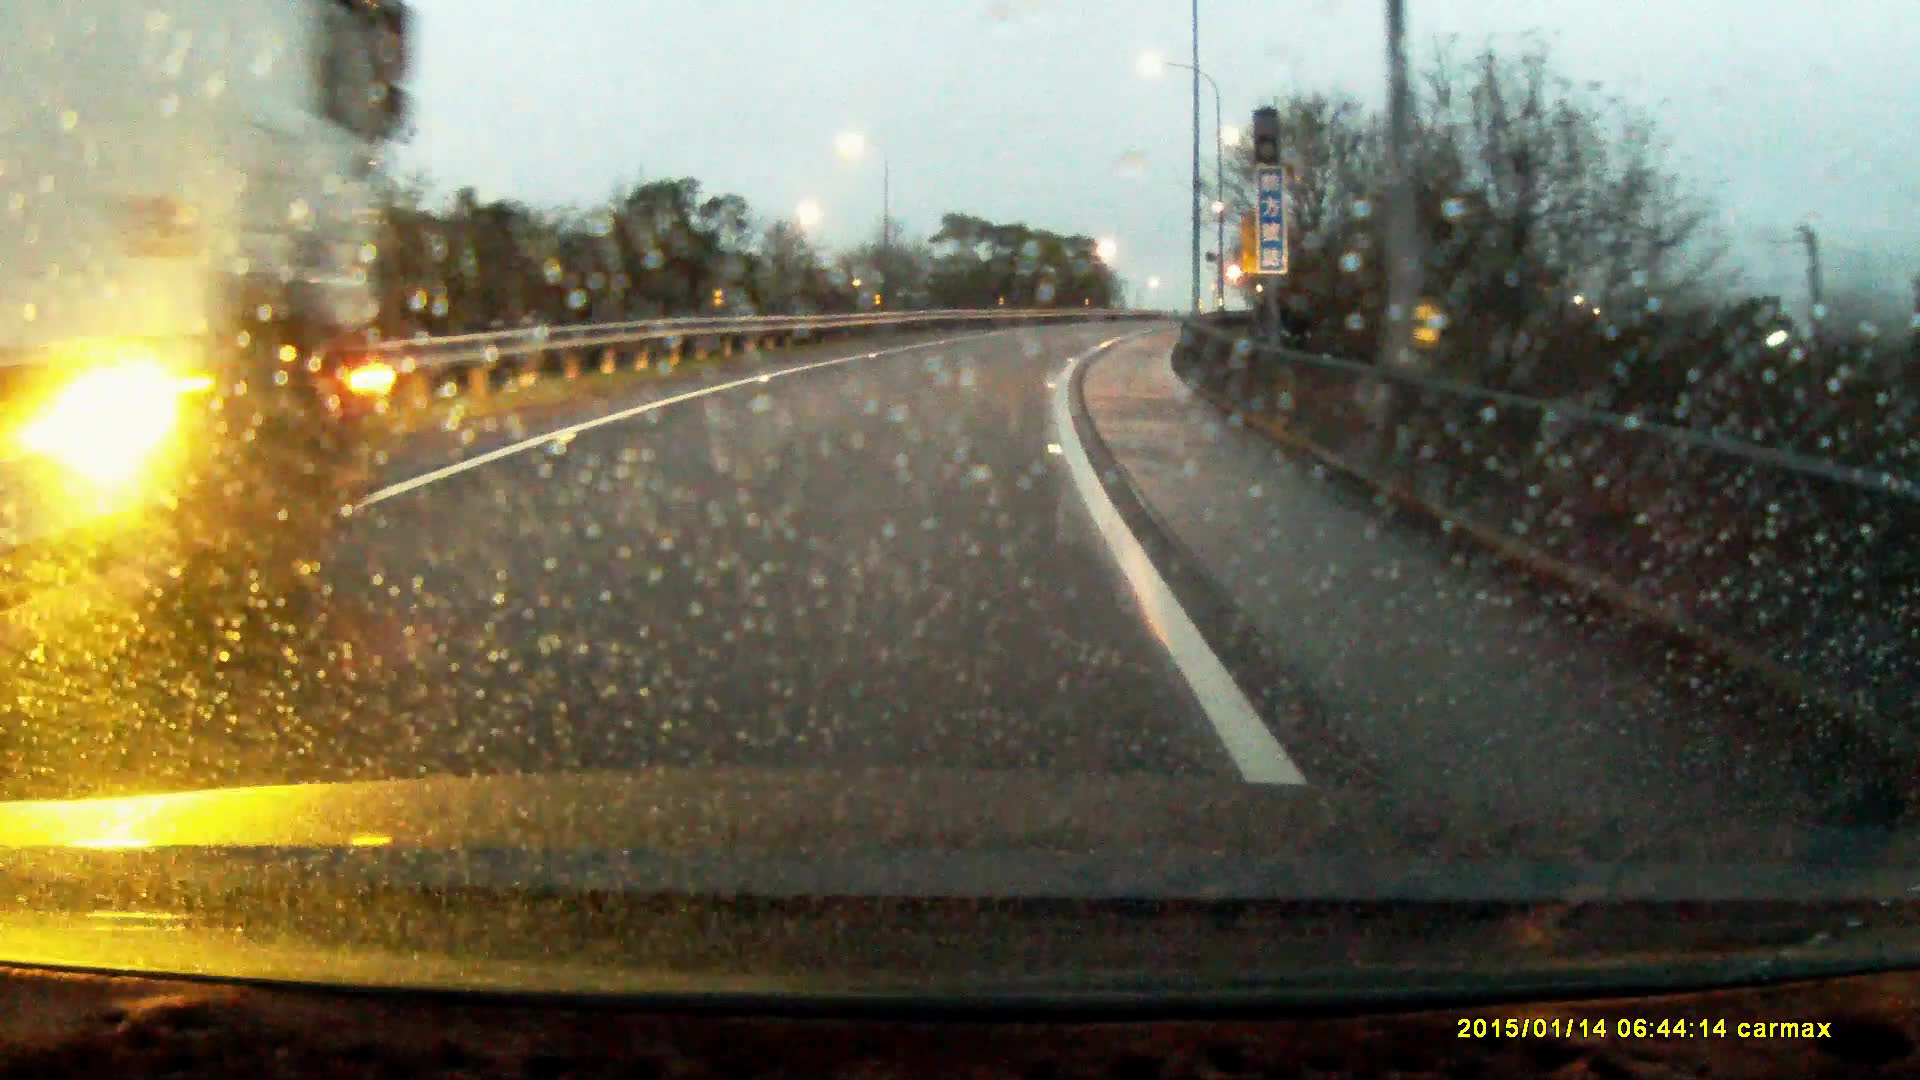vehicle: (1, 1, 406, 647)
